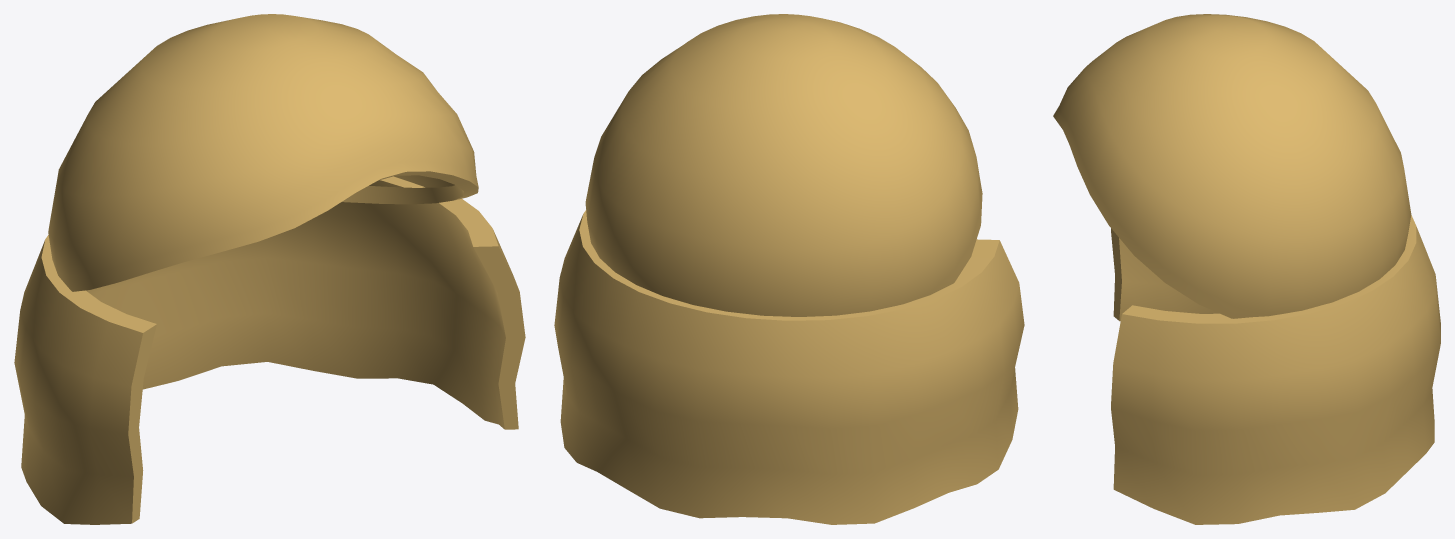
File: Char_Hair_Long.fbx
The picture shows the model from 3 angles, left to right: view 1: azimuth 30°, elevation 25°; view 2: azimuth 150°, elevation 25°; view 3: azimuth 270°, elevation 25°; orthographic projection. The views are drawn at different scales.
Visible parts, largest first — view 1: Hair; view 2: Hair; view 3: Hair.
Boxes of the visible parts, x1,y1,x2,y2 form: Hair: (14,14,525,524); Hair: (554,14,1024,524); Hair: (1053,14,1440,524).
Bounding box in the file's own units: 162 × 153 × 133.
